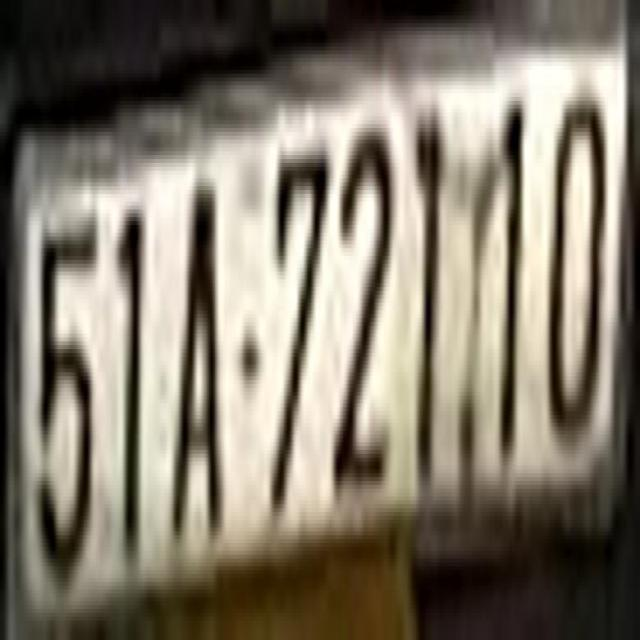0: (544, 93, 608, 454)
1: (110, 178, 144, 586), (498, 93, 528, 481), (411, 109, 440, 492)
2: (332, 120, 399, 504)
5: (33, 206, 96, 582)
7: (268, 136, 329, 512)
A: (167, 174, 228, 550)
